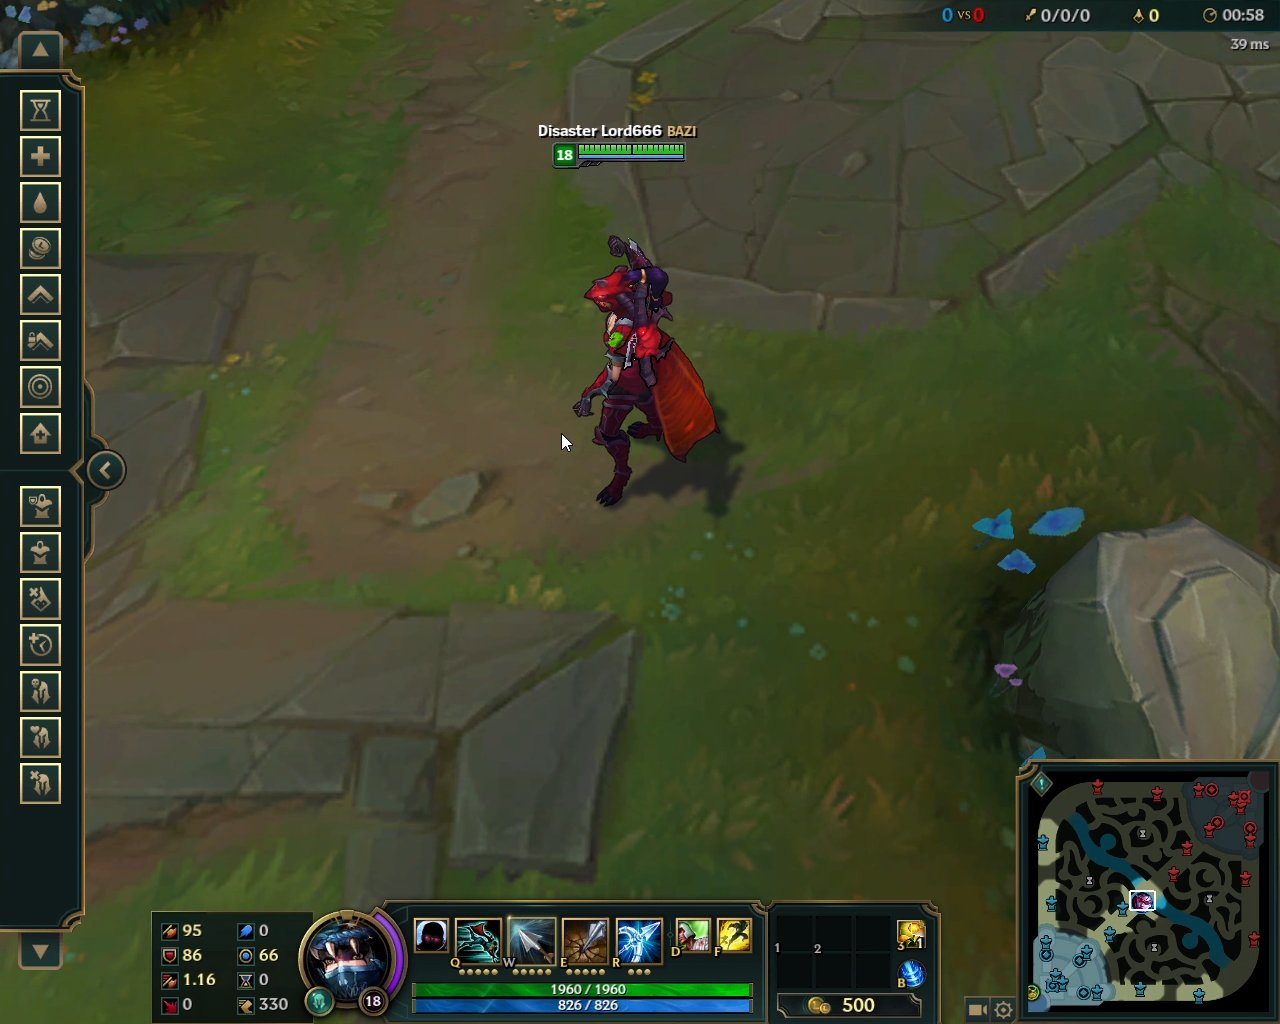Vayne: (551, 230, 738, 514)
